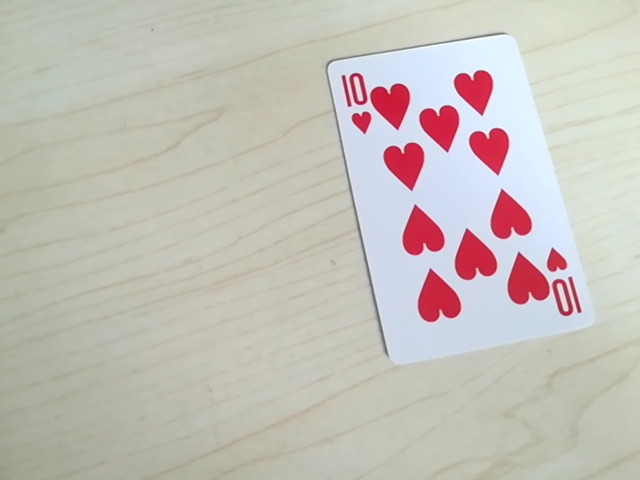hx 10: (338, 63, 377, 119), (543, 272, 580, 322)
